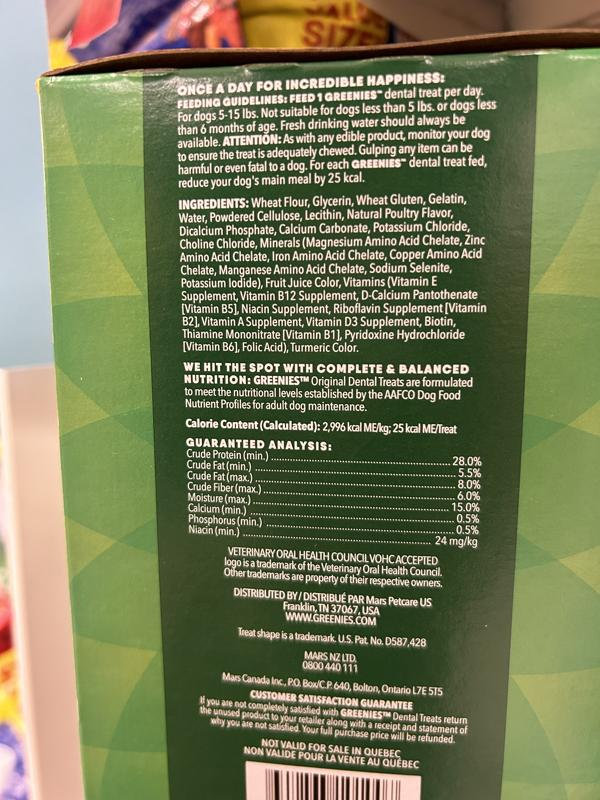ingredients: (174, 190, 492, 357)
